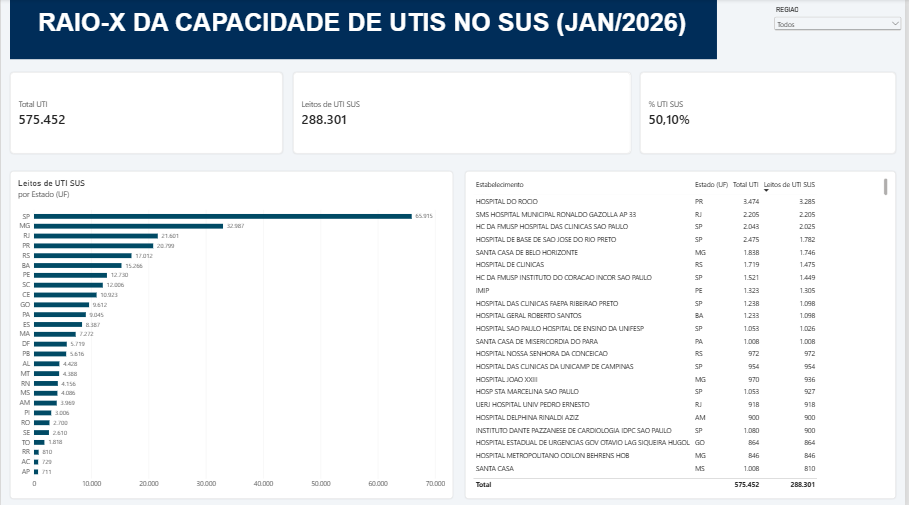

What the dashboard file says about the page in this screenshot:
{"tool":"powerbi","page":{"name":"Capacidade UTI","canvas":[1920,1080],"ordinal":1},"visuals":[{"type":"textbox","box":[19.1,0,1503.1,127.6],"z":0},{"type":"slicer","fields":{"Values":["Leitos_2026.REGIAO"]},"box":[1639.1,14.9,280,280],"z":1000},{"type":"cardVisual","fields":{"Data":["Leitos_2026.Total UTI"]},"box":[19.1,155.2,580.4,174.3],"z":2000},{"type":"cardVisual","fields":{"Data":["Leitos_2026.UTI SUS"]},"box":[620.8,155.2,718.6,174.3],"z":3000},{"type":"cardVisual","fields":{"Data":["Leitos_2026.% UTI SUS"]},"box":[1358.5,155.2,544.3,174.3],"z":4000},{"type":"clusteredBarChart","fields":{"Category":["Leitos_2026.UF"],"Y":["Leitos_2026.UTI SUS"]},"box":[19.1,365.7,941.8,697.3],"z":5000},{"type":"tableEx","fields":{"Values":["Leitos_2026.NOME_ESTABELECIMENTO","Leitos_2026.UF","Leitos_2026.Total UTI","Leitos_2026.UTI SUS"]},"box":[986.5,365.7,916.3,697.3],"z":6000}]}

Visuals, with their boxes in screenshot pixels (x1, y1, x2, y2), scaled from the page's 1920x1080 canvas onto the 909x505 screenshot:
textbox: (9,0,721,60)
slicer - Leitos_2026.REGIAO: (776,7,908,138)
cardVisual - Leitos_2026.Total UTI: (9,73,284,154)
cardVisual - Leitos_2026.UTI SUS: (294,73,634,154)
cardVisual - Leitos_2026.% UTI SUS: (643,73,901,154)
clusteredBarChart - Leitos_2026.UF x Leitos_2026.UTI SUS: (9,171,455,497)
tableEx - Leitos_2026.NOME_ESTABELECIMENTO x Leitos_2026.UF: (467,171,901,497)
